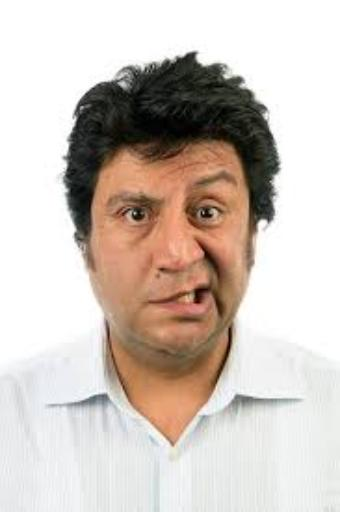left_eye: (193, 205, 227, 225)
left_lip_corner: (205, 283, 220, 300)
right_eye: (117, 206, 156, 227)
right_lip_corner: (144, 295, 158, 312)
